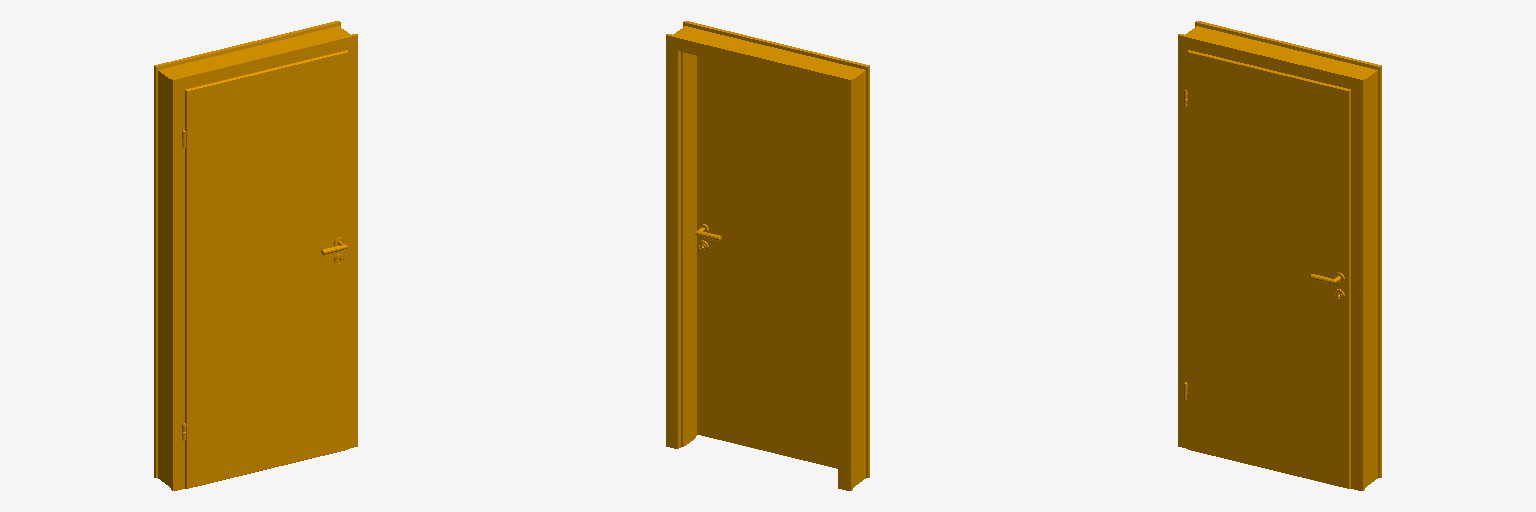
URDF robot description (door):
<?xml version="1.0"?>
<robot name="door">
 
    <link name="base_link">
        <visual>
            <origin rpy="0 0 0" xyz="0 0 0"/>
            <geometry>
                <mesh filename="urdf/door/door.dae" scale="0.01 0.01 0.01"/>
            </geometry>
 
        </visual>

 </link>
 
</robot>

--- What the picture shows (computed from the rendered views, not written in the file) ---
Views: 3 orthographic renders of the robot side by side, from view 1: azimuth 30°, elevation 25°; view 2: azimuth 150°, elevation 25°; view 3: azimuth 330°, elevation 25°.
Robot: door — 1 links, 0 joints (none); root link base_link; default pose: all joints at 0.
Visible links, largest first — view 1: base_link; view 2: base_link; view 3: base_link.
Boxes of the visible links, bbox=[...] form: base_link: bbox=[154, 21, 357, 490]; base_link: bbox=[666, 21, 869, 490]; base_link: bbox=[1178, 21, 1381, 490].
Bounding box of the posed robot: 0.97 × 0.2606 × 2.06 m (x, y, z).
Meshes: 1 distinct files referenced, 1 mesh visuals loaded (1 Collada DAE).
